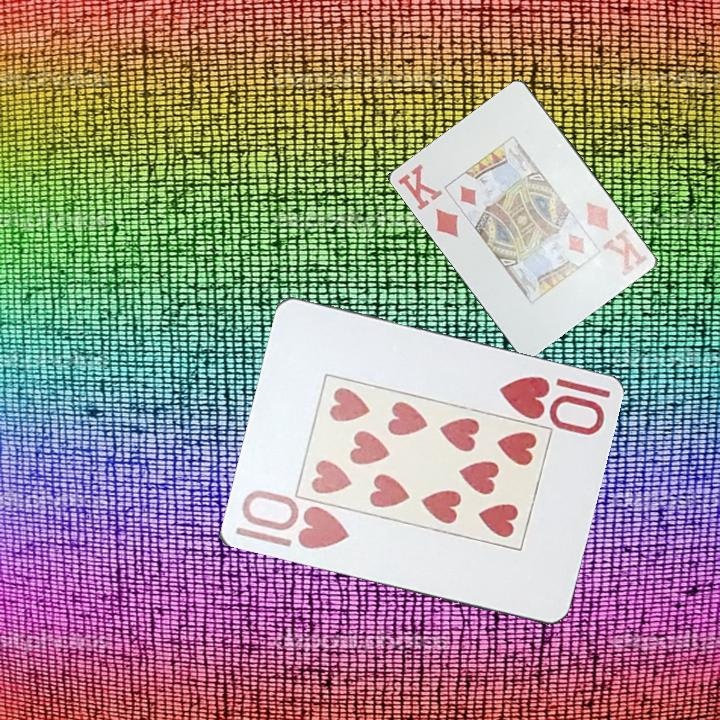Kd: (582, 198, 651, 279), (395, 160, 462, 241)
Th: (495, 372, 613, 437), (237, 488, 352, 553)
